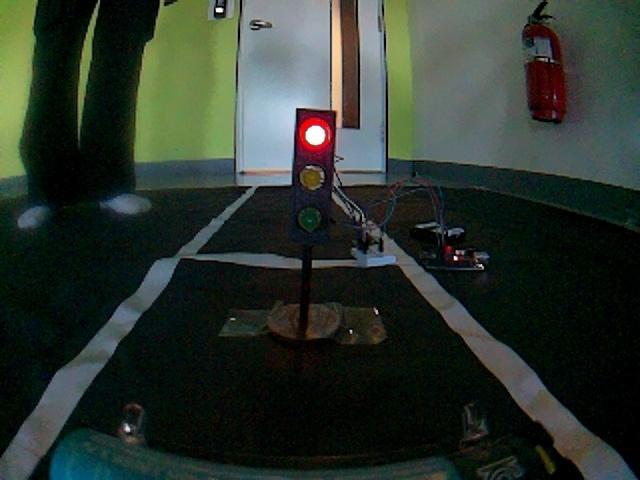go: (0, 378, 634, 480)
red_light: (208, 74, 403, 365)
